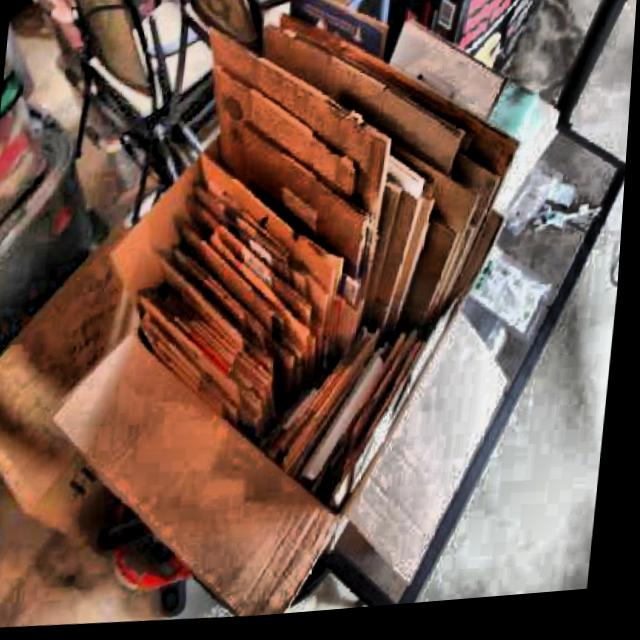Cardbox: (24, 0, 568, 636)
